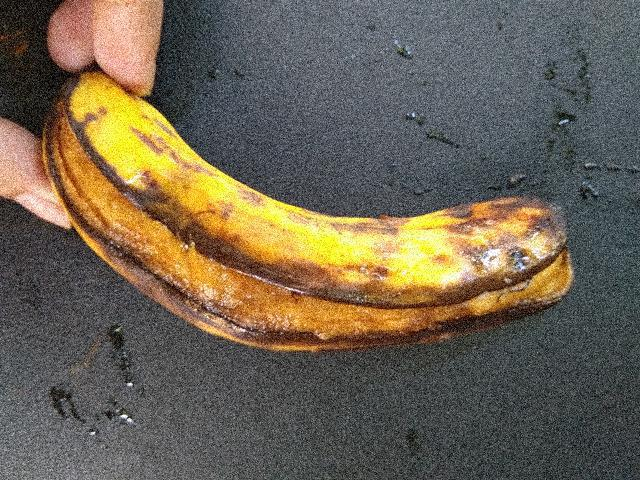rotten: (45, 63, 587, 393)
